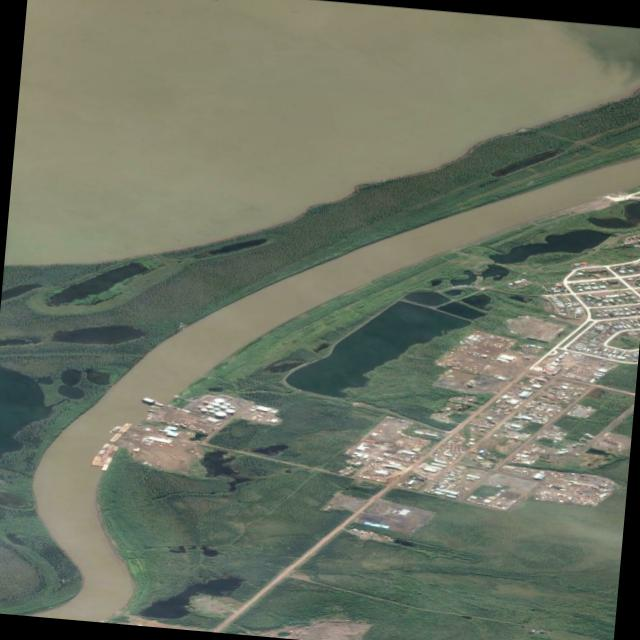storage-tank: (213, 396, 224, 403), (215, 410, 226, 416), (212, 400, 220, 406), (226, 407, 235, 412), (200, 406, 208, 411), (224, 401, 230, 406), (207, 404, 214, 408), (221, 404, 227, 408), (209, 408, 215, 412), (215, 406, 220, 410)
